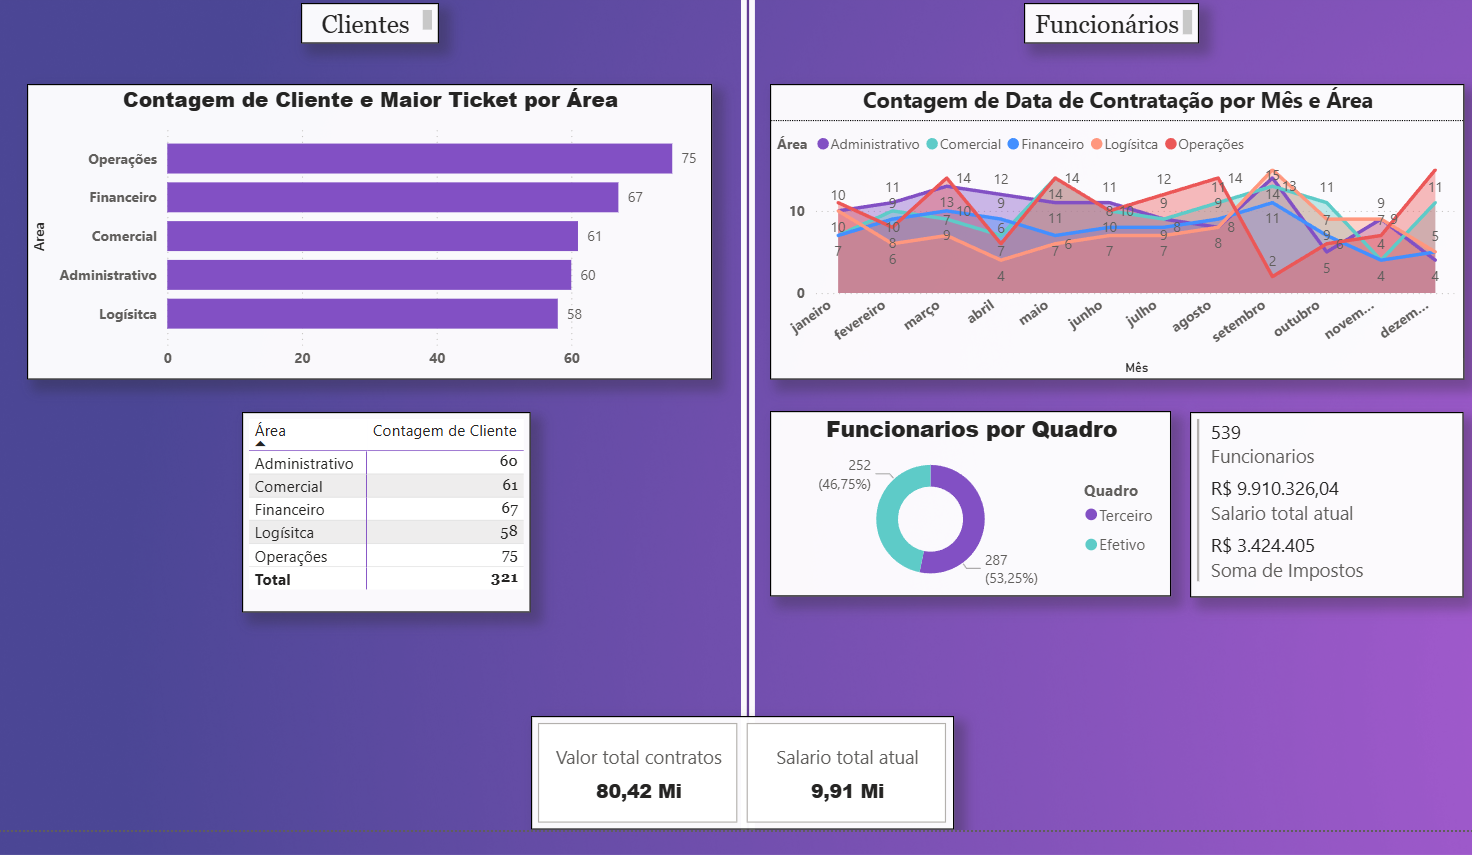

Layout of this report page (visuals, bound fields, positions):
{"tool":"powerbi","page":{"name":"Página 1","canvas":[1280,720],"ordinal":0},"visuals":[{"type":"pivotTable","fields":{"Rows":["BaseCargos.Área"],"Values":["BaseClientes.Cliente"]},"box":[217.4,359.7,249.3,173.4],"z":0},{"type":"barChart","fields":{"Category":["BaseCargos.Área"],"Y":["BaseClientes.Cliente"]},"box":[31.9,76.8,590.8,255.3],"z":1000},{"type":"shape","box":[648,0,12,720],"z":2000},{"type":"textbox","box":[268.2,6.9,119,35.4],"z":3000},{"type":"textbox","box":[891.9,6.9,150.9,34.5],"z":4000},{"type":"lineChart","title":"Contagem de Data de Contratação por Mês e Área","fields":{"Y":["BaseFuncionarios01.Data de Contratacao"],"Category":["BaseFuncionarios01.Data de Contratacao.Variation.Hierarquia de datas.Ano","BaseFuncionarios01.Data de Contratacao.Variation.Hierarquia de datas.Trimestre","BaseFuncionarios01.Data de Contratacao.Variation.Hierarquia de datas.Mês","BaseFuncionarios01.Data de Contratacao.Variation.Hierarquia de datas.Dia"],"Series":["BaseCargos.Área"]},"box":[672.8,76.8,598.6,255.3],"z":5000},{"type":"cardVisual","fields":{"Data":["BaseClientes.Total valor de contrato","BaseFuncionarios01.Salario total atual"]},"box":[466.6,621.9,364.9,98.3],"z":6000},{"type":"multiRowCard","fields":{"Values":["BaseFuncionarios01.Nome Completo","BaseFuncionarios01.Salario total atual","BaseFuncionarios01.Impostos"]},"box":[1035,359.7,236.3,160.4],"z":7000},{"type":"donutChart","fields":{"Y":["BaseFuncionarios01.Nome Completo"],"Category":["BaseCargos.Quadro"]},"box":[672.8,358.8,345.9,159.6],"z":8000}]}

Visuals, with their boxes in screenshot pixels (x1, y1, x2, y2):
pivotTable - BaseCargos.Área x BaseClientes.Cliente: Rect(250, 408, 533, 605)
barChart - BaseCargos.Área x BaseClientes.Cliente: Rect(40, 87, 710, 377)
shape: Rect(739, 0, 752, 817)
textbox: Rect(308, 8, 443, 48)
textbox: Rect(1015, 8, 1186, 47)
"Contagem de Data de Contratação por Mês e Área" lineChart: Rect(767, 87, 1446, 377)
cardVisual - BaseClientes.Total valor de contrato x BaseFuncionarios01.Salario total atual: Rect(533, 705, 947, 817)
multiRowCard - BaseFuncionarios01.Nome Completo x BaseFuncionarios01.Salario total atual: Rect(1178, 408, 1446, 590)
donutChart - BaseFuncionarios01.Nome Completo x BaseCargos.Quadro: Rect(767, 407, 1159, 588)
